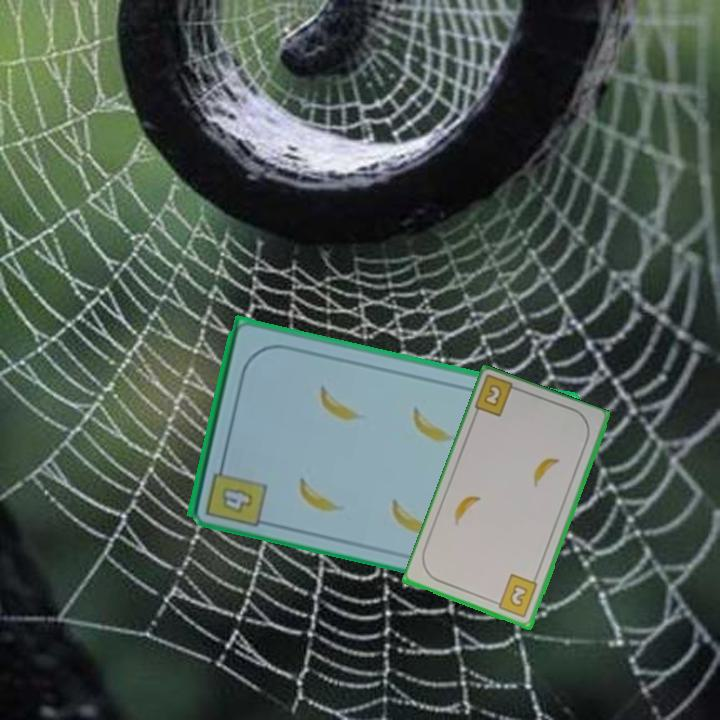2b: (490, 571, 541, 621), (480, 381, 505, 410)
4b: (202, 455, 270, 529)
